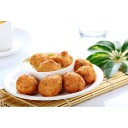bonda: (16, 74, 38, 94), (39, 75, 61, 95), (64, 73, 85, 92), (78, 66, 98, 84)
